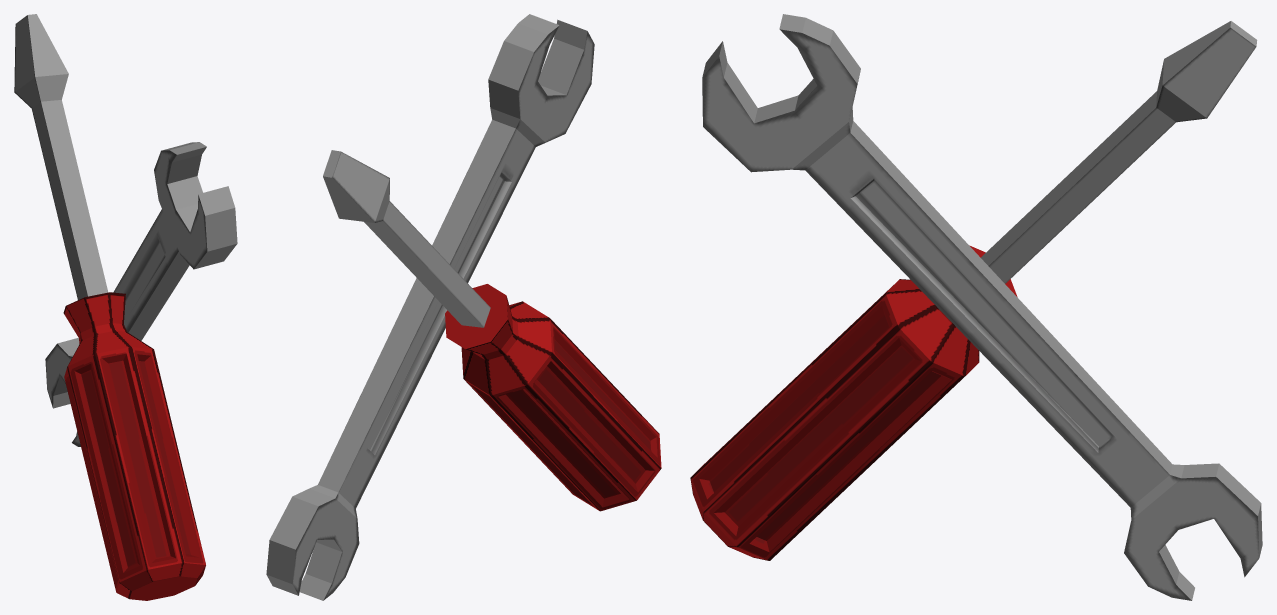
Rendered from ferramenta_concerto.fbx.
The picture shows the model from 3 angles, left to right: view 1: azimuth 30°, elevation 25°; view 2: azimuth 150°, elevation 25°; view 3: azimuth 270°, elevation 25°; orthographic projection. The views are drawn at different scales.
Visible parts, largest first — view 1: Plane.001; view 2: Plane.001; view 3: Plane.001.
Boxes of the visible parts, x1,y1,x2,y2 form: Plane.001: (14, 14, 237, 600); Plane.001: (266, 14, 661, 600); Plane.001: (690, 14, 1262, 600).
Size of the model in its own units: 35.4 by 94.88 by 87.08.
